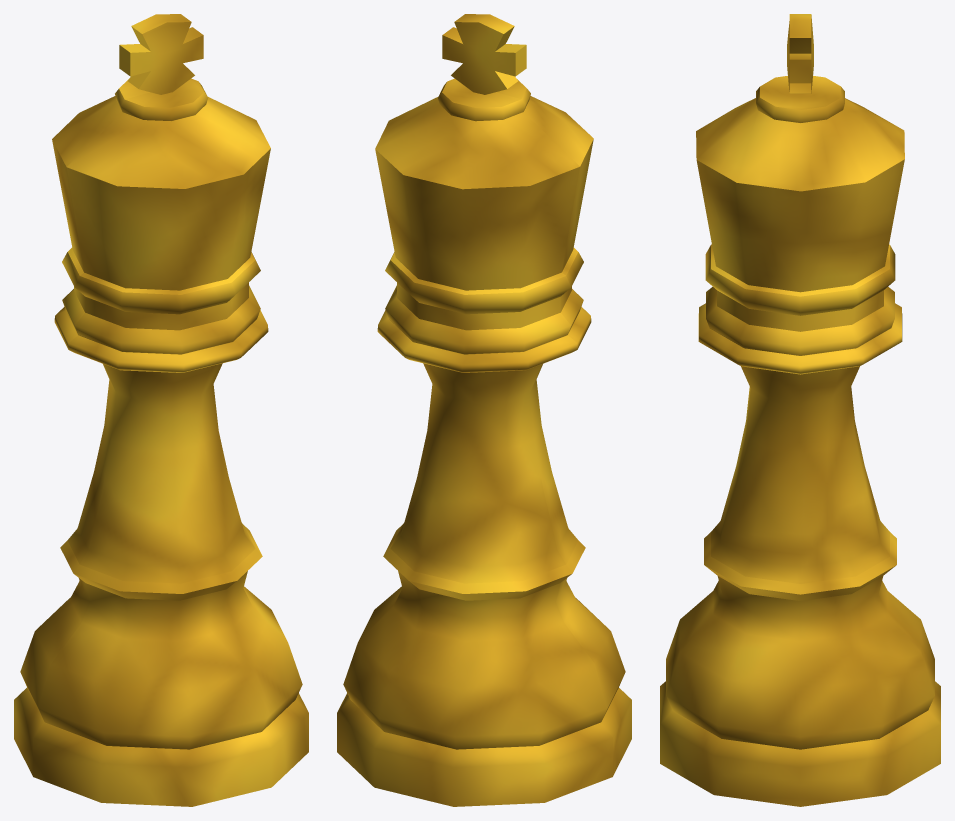
The model's file is item-5-1.glb.
3 renders of one model, left to right at view 1: azimuth 30°, elevation 25°; view 2: azimuth 150°, elevation 25°; view 3: azimuth 270°, elevation 25°, orthographic.
Parts seen in each view (by area): view 1: BlackKing; view 2: BlackKing; view 3: BlackKing.
Part boxes in pixels (x1=…): BlackKing: x1=14, y1=14, x2=308, y2=806; BlackKing: x1=337, y1=14, x2=631, y2=806; BlackKing: x1=660, y1=14, x2=940, y2=806.
Bounding box in the file's own units: 0.0886 × 0.2399 × 0.0843.
Materials: 1 (1 with a texture image).
